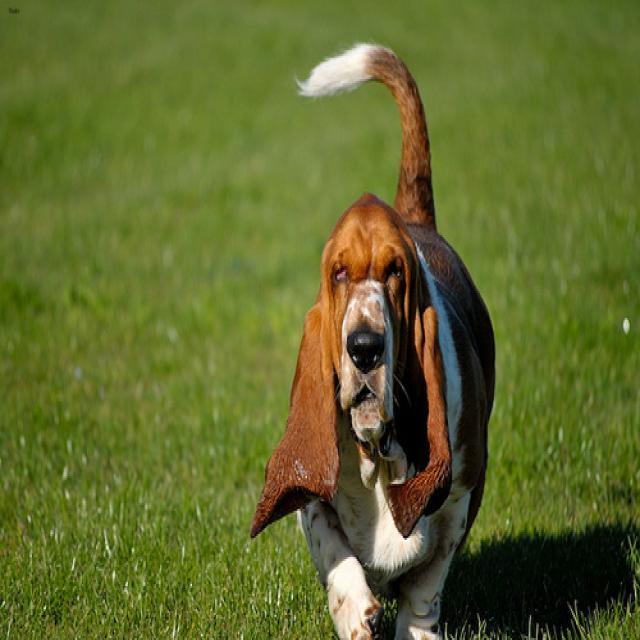dog-basset_hound: (242, 35, 506, 636)
